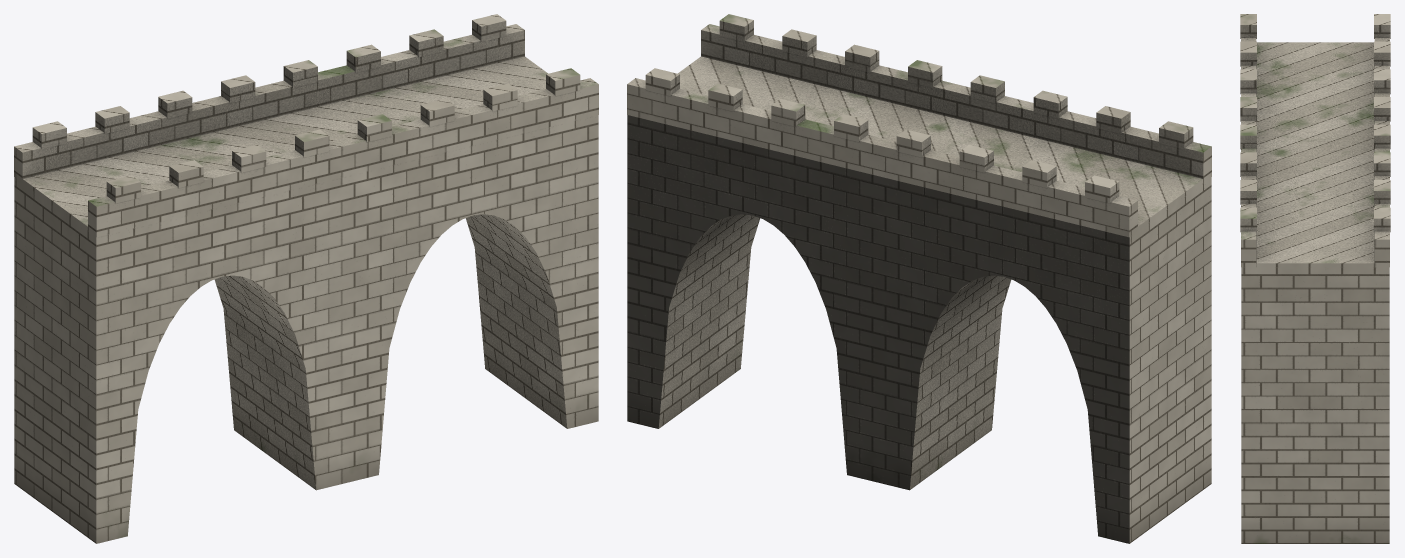
File: cenario_ponte_arcos.glb
The picture shows the model from 3 angles, left to right: view 1: azimuth 30°, elevation 25°; view 2: azimuth 150°, elevation 25°; view 3: azimuth 270°, elevation 25°; orthographic projection. The views are drawn at different scales.
Visible parts, largest first — view 1: cenario_ponte_arcos; view 2: cenario_ponte_arcos; view 3: cenario_ponte_arcos.
Part boxes in pixels (<box>): cenario_ponte_arcos: <box>14,14,598,543</box>; cenario_ponte_arcos: <box>627,14,1211,543</box>; cenario_ponte_arcos: <box>1240,14,1390,543</box>.
Bounding box in the file's own units: 12 × 8.02 × 3.44.
1 material, 1 textured.
